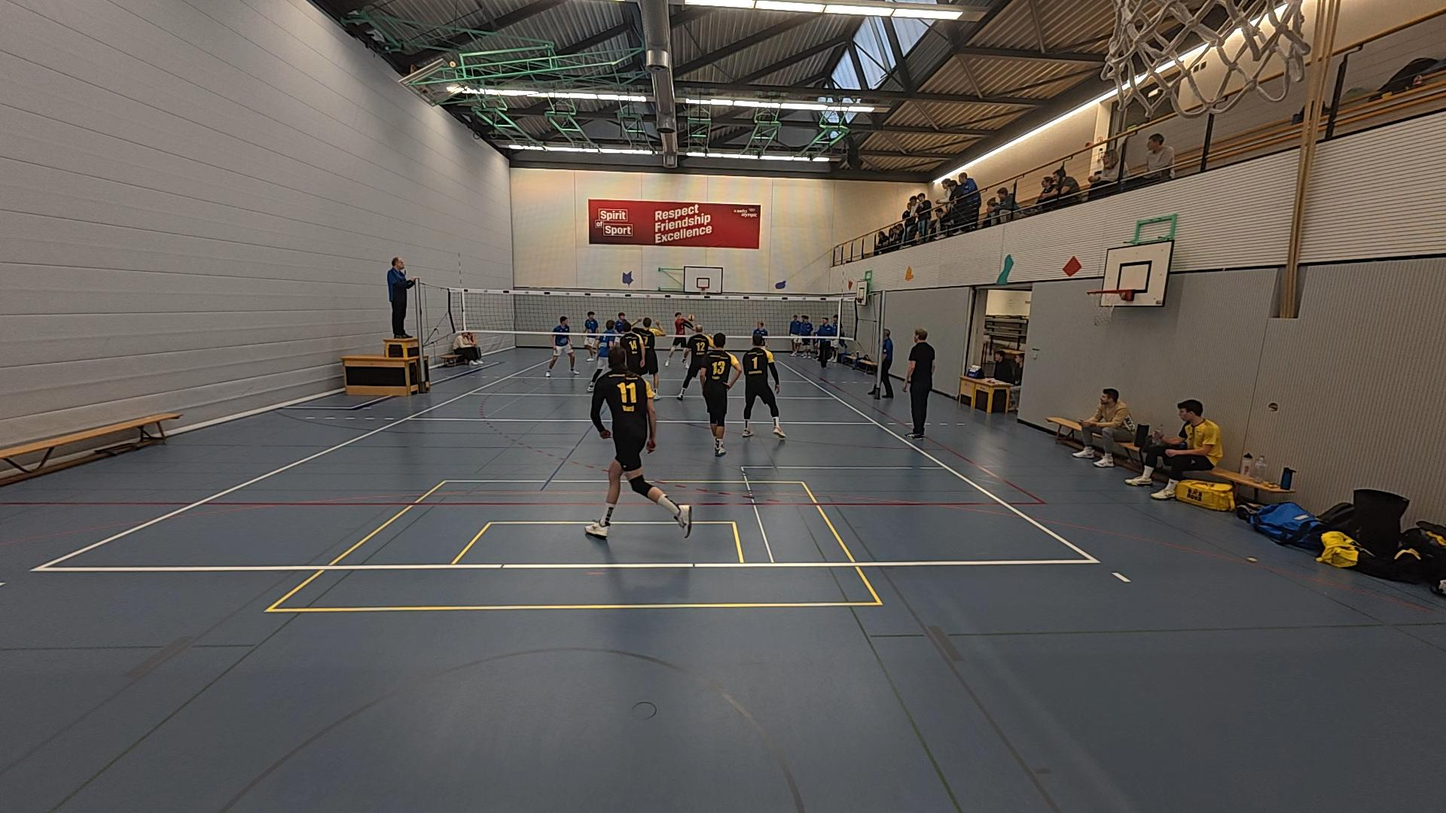Player: (586, 347, 693, 539), (684, 331, 736, 455), (739, 330, 783, 439), (675, 319, 717, 402), (627, 314, 661, 399), (545, 313, 575, 377), (602, 310, 629, 370), (576, 309, 602, 366)
Receive: (670, 310, 700, 367)
ball: (901, 264, 916, 279), (685, 308, 698, 324)
